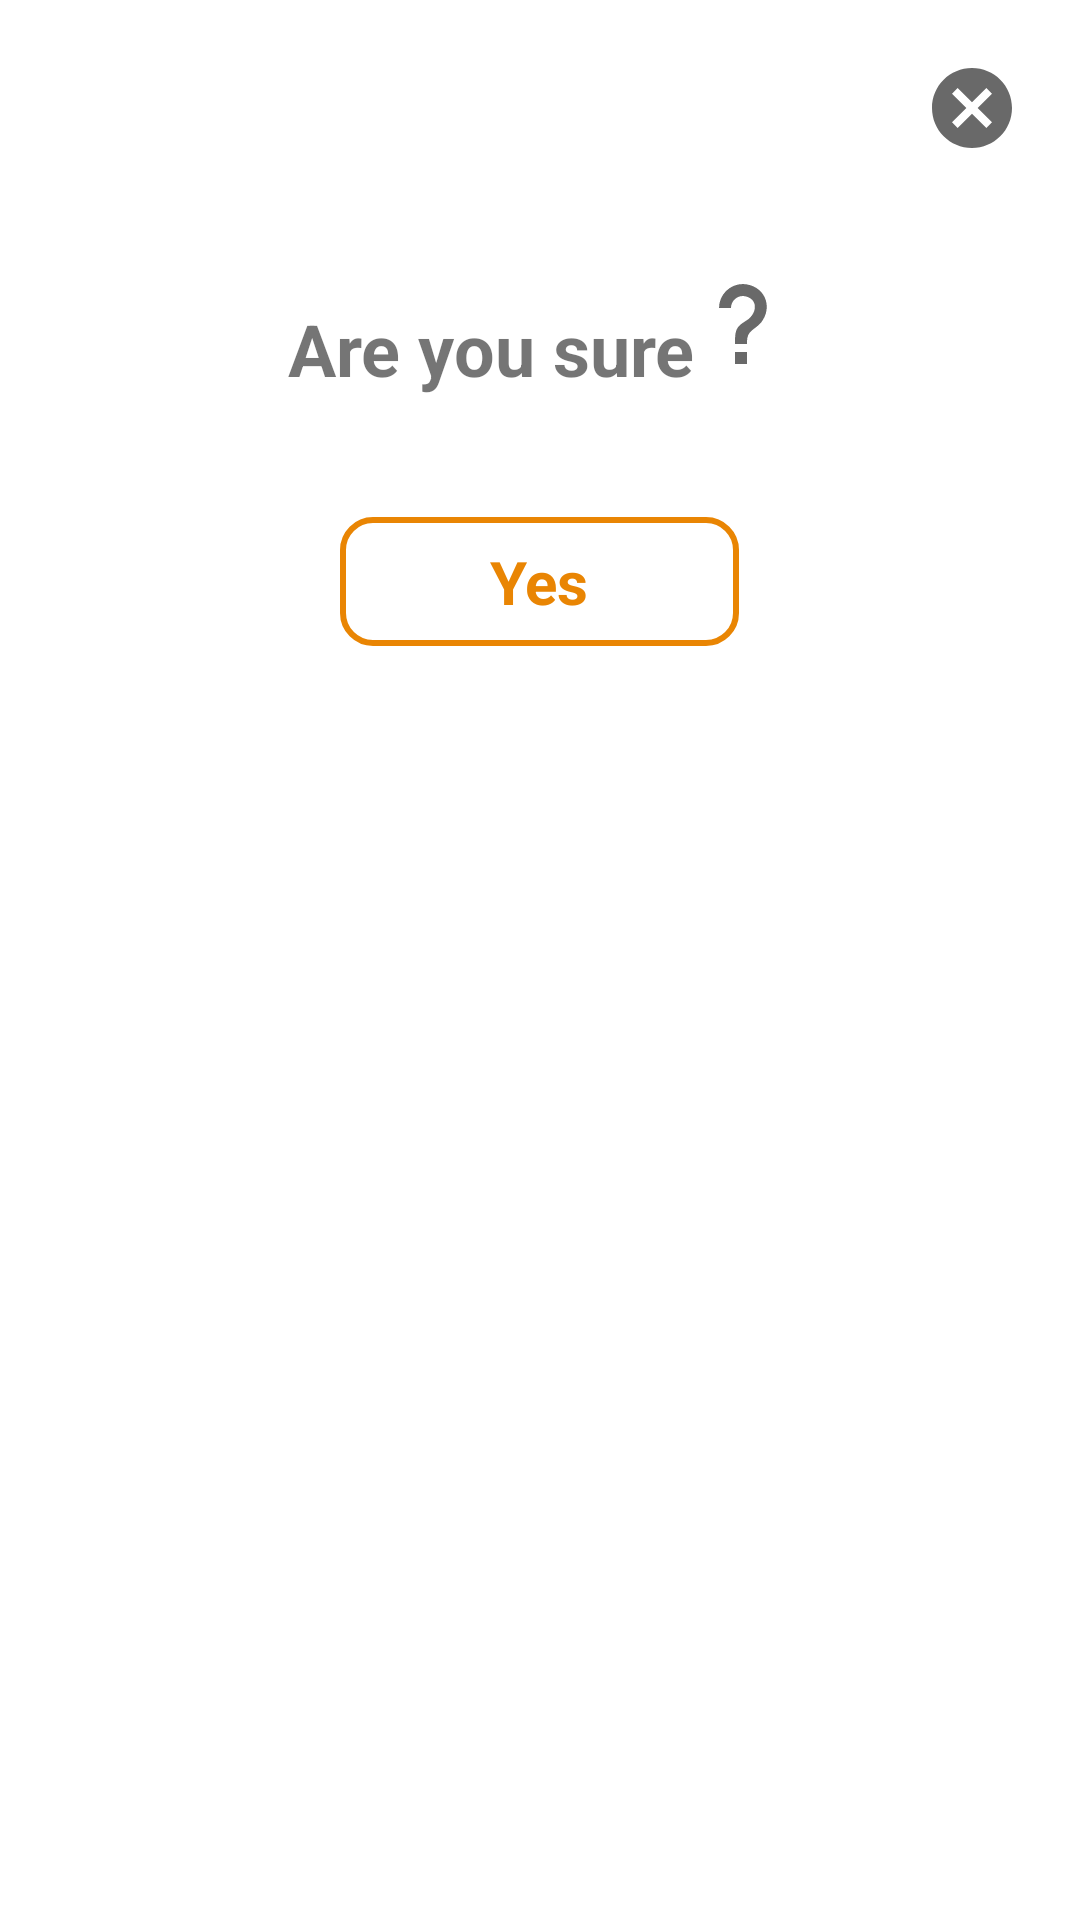

Icon bounding boxes for this 1080×1920 phone screenshot, format (x1, y1, x2, y2):
cancel: (932, 68, 1012, 148)
question: (719, 284, 767, 364)
